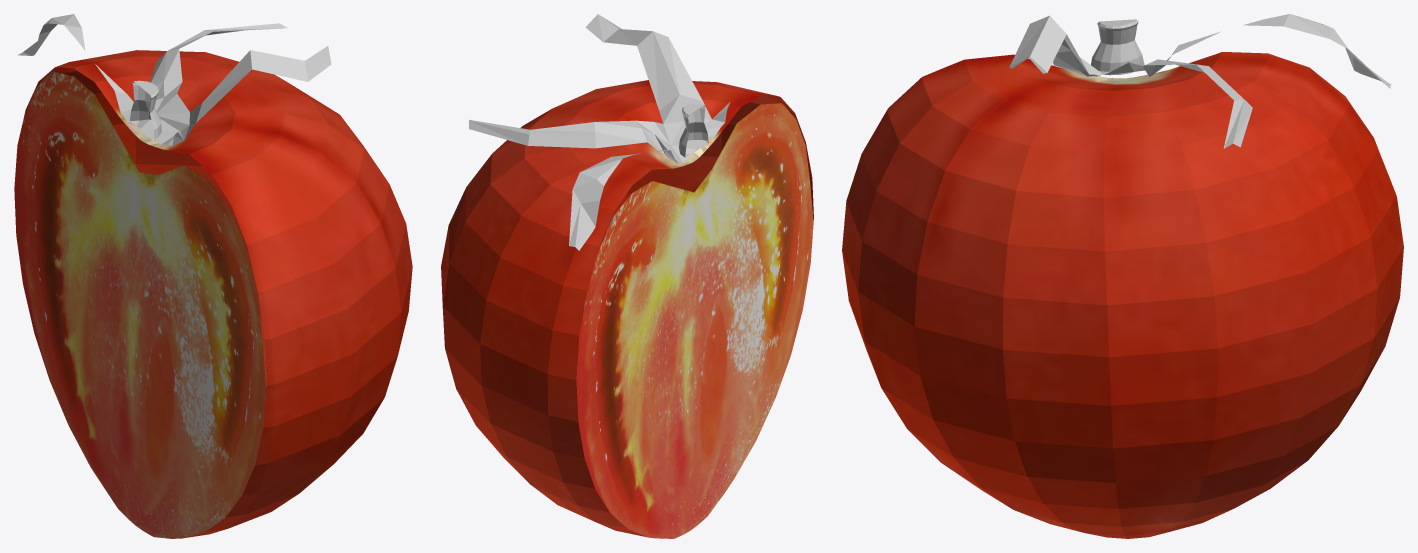
The model's file is tomato_right.obj.
The picture shows the model from 3 angles, left to right: view 1: azimuth 30°, elevation 25°; view 2: azimuth 150°, elevation 25°; view 3: azimuth 270°, elevation 25°; orthographic projection. The views are drawn at different scales.
Parts seen in each view (by area): view 1: tomato_half; view 2: tomato_half; view 3: tomato_half.
Part boxes in pixels (bbox=[...]): tomato_half: bbox=[14, 14, 412, 538]; tomato_half: bbox=[441, 14, 813, 538]; tomato_half: bbox=[842, 14, 1403, 538].
Bounding box in the file's own units: 0.0415 × 0.0813 × 0.077.
